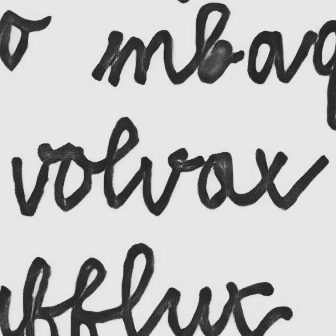l: (99, 114, 141, 211)
o: (52, 148, 95, 213), (195, 150, 235, 211)
v: (138, 148, 183, 217), (10, 152, 51, 219)
x: (244, 145, 291, 211)
